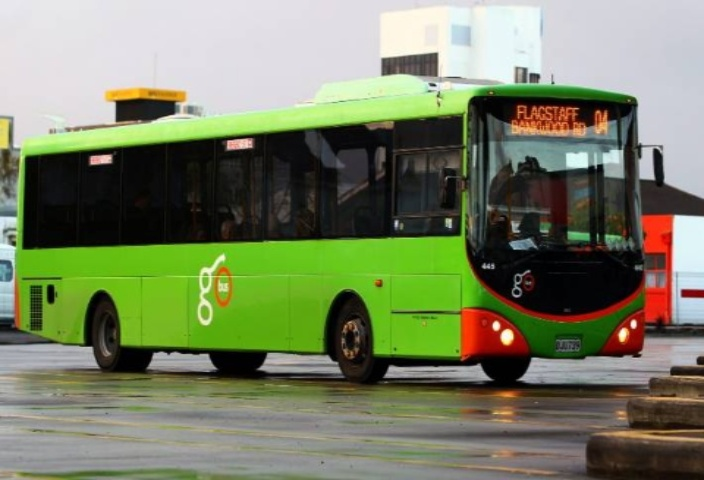bus: (11, 94, 665, 386)
